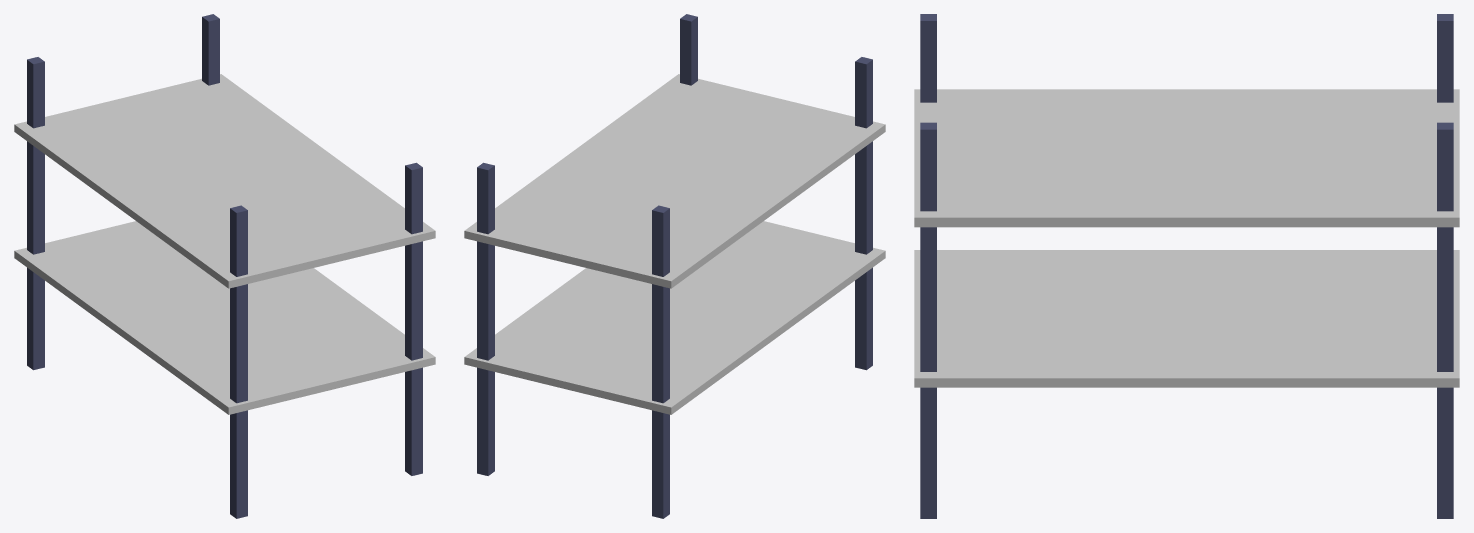
File: DoubleShelf.fbx
The picture shows the model from 3 angles, left to right: view 1: azimuth 30°, elevation 25°; view 2: azimuth 150°, elevation 25°; view 3: azimuth 270°, elevation 25°; orthographic projection. The views are drawn at different scales.
Parts seen in each view (by area): view 1: DoubleShelf; view 2: DoubleShelf; view 3: DoubleShelf.
Part boxes in pixels (x1,y1,x2,y2): DoubleShelf: [14, 14, 435, 518]; DoubleShelf: [464, 14, 885, 518]; DoubleShelf: [914, 14, 1459, 518].
Size of the model in its own units: 239 by 338 by 429.
